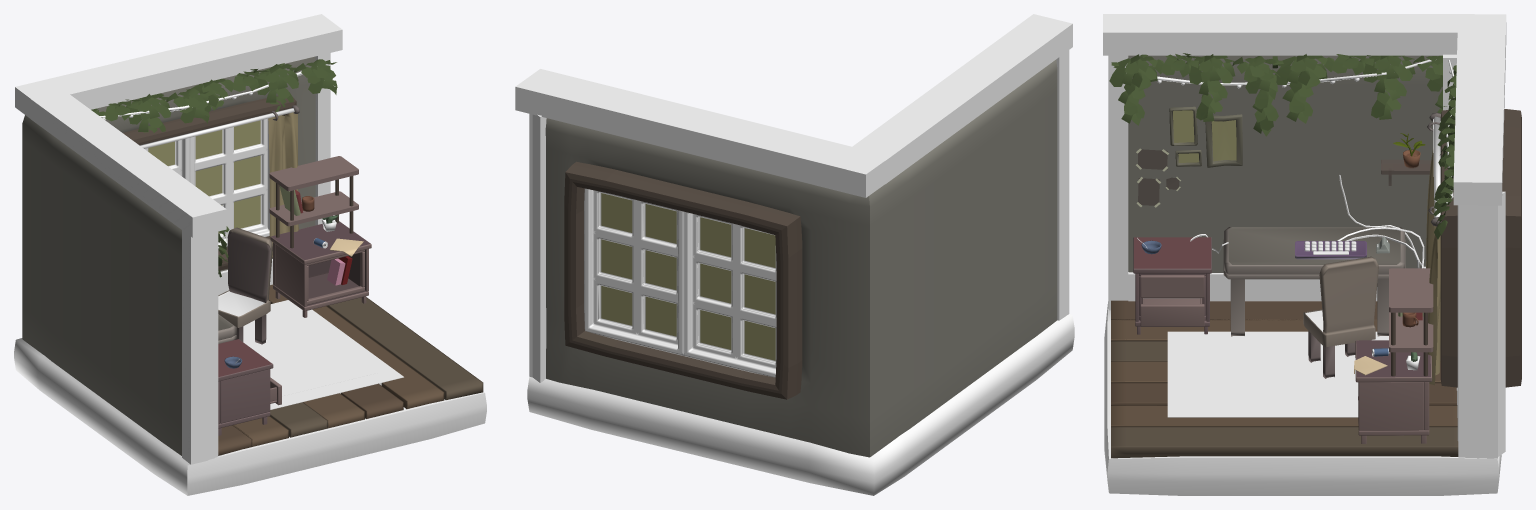
The picture shows the model from 3 angles, left to right: view 1: azimuth 30°, elevation 25°; view 2: azimuth 150°, elevation 25°; view 3: azimuth 270°, elevation 25°; orthographic projection. The views are drawn at different scales.
Parts seen in each view (by area): view 1: Cylinder003; view 2: Cylinder003; view 3: Cylinder003.
Boxes of the visible parts, x1,y1,x2,y2 form: Cylinder003: (14, 14, 486, 495); Cylinder003: (515, 14, 1074, 495); Cylinder003: (1103, 14, 1521, 495).
Bounding box in the file's own units: 511 × 447 × 526.
